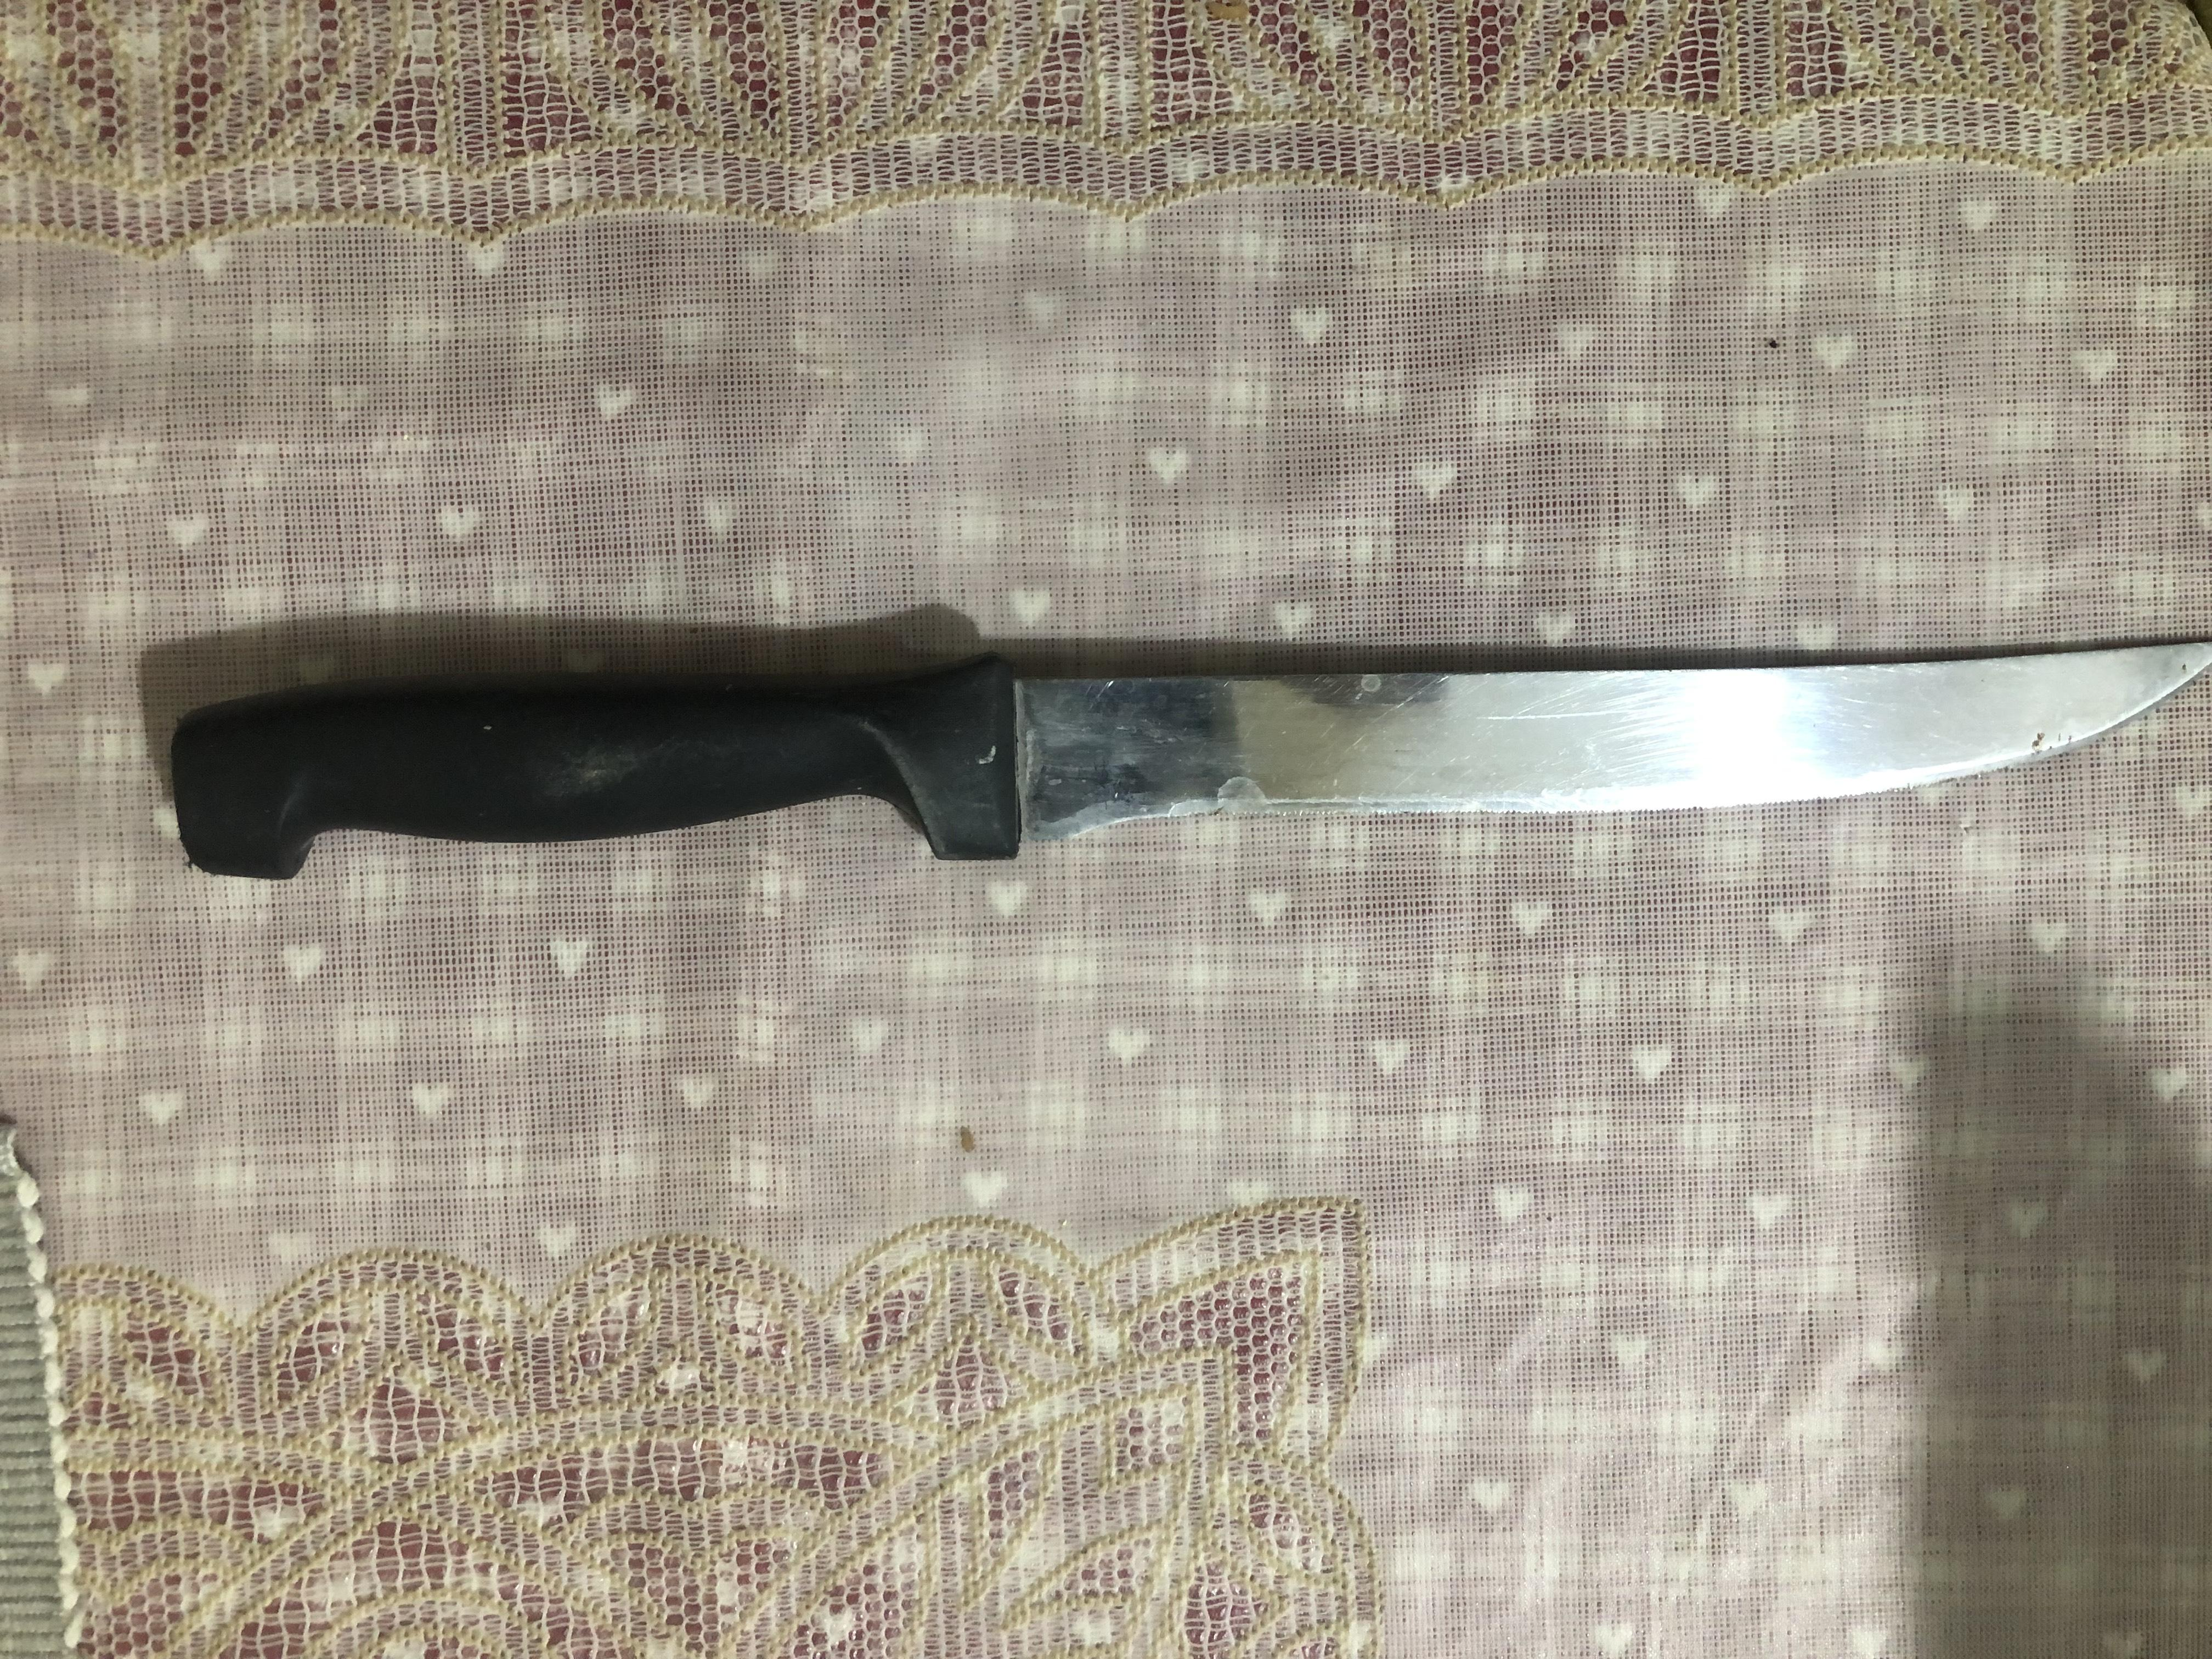weapon: (1045, 120, 1385, 1659)
